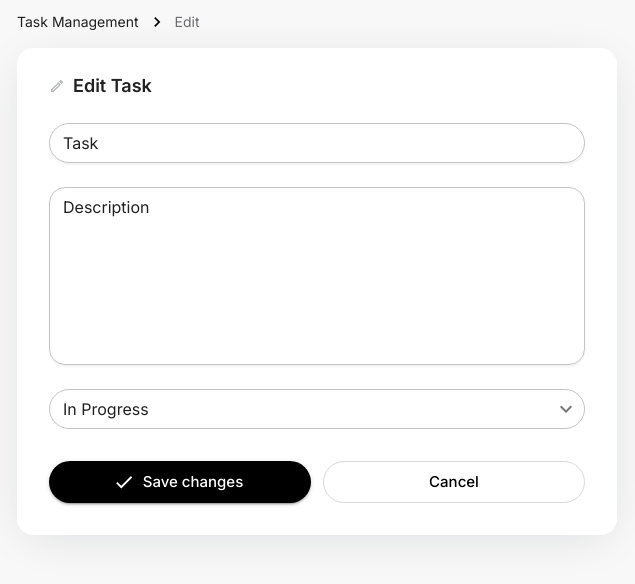
Test case: available status options › for "inProgress" status
What coordinates should you click on to do the following:
click the dropdown
I would click on:
 (106, 409)
Its box is [63,399,149,419].
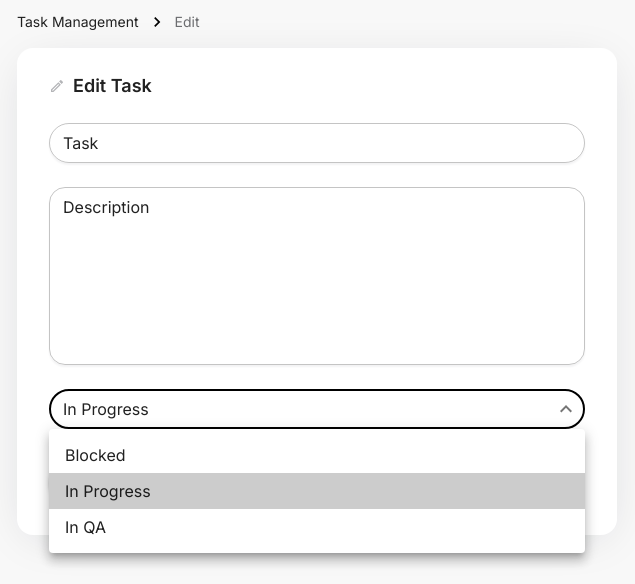
Now the option with test id "option-inProgress" is shown, box [49,473,585,509]
Now the option with test id "option-blocked" is shown, box [65,445,126,465]
Now the option with test id "option-inQa" is shown, box [65,517,106,537]
